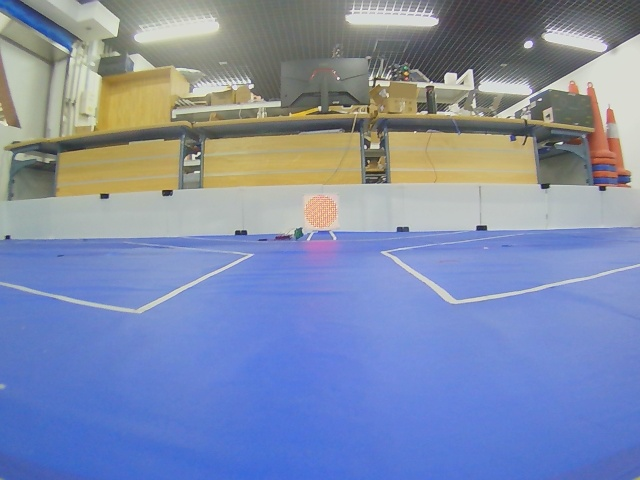red: (304, 194, 338, 230)
